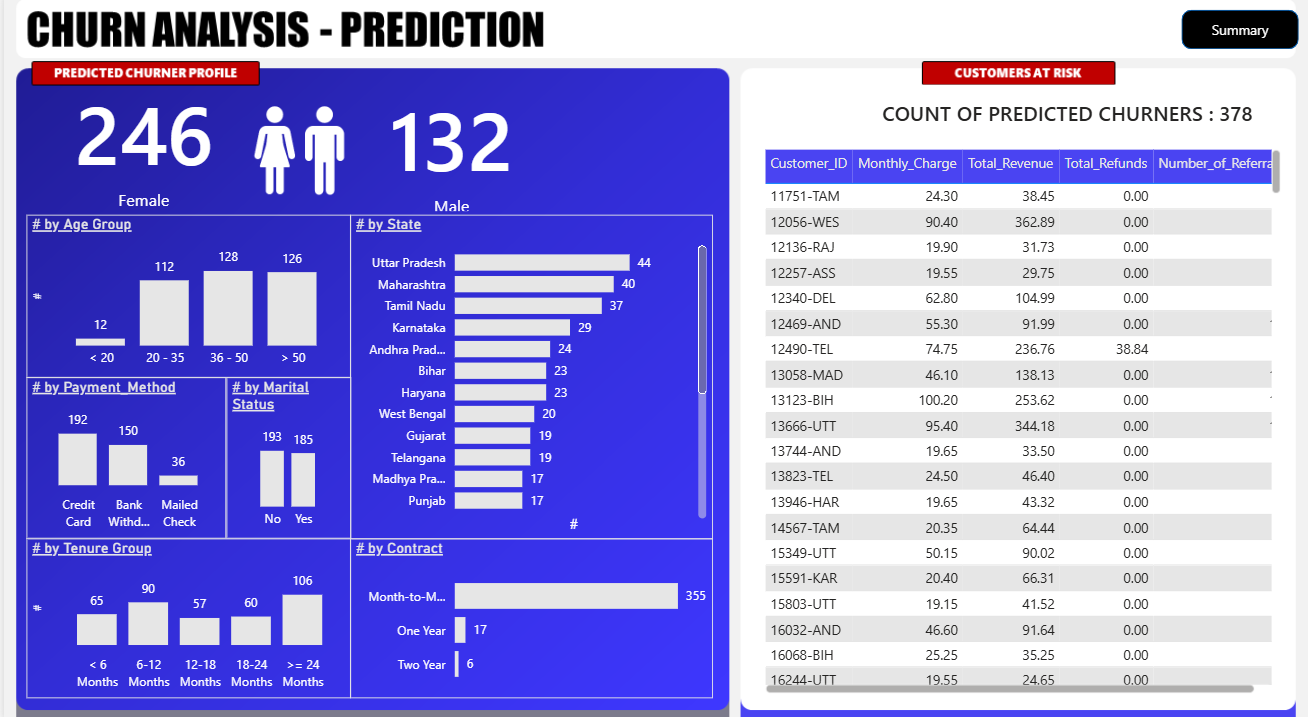

Layout of this report page (visuals, bound fields, positions):
{"tool":"powerbi","page":{"name":"Churn_Prediction","canvas":[1280,720],"ordinal":2},"visuals":[{"type":"tableEx","fields":{"Values":["predictions.Customer_ID","predictions.Monthly_Charge","predictions.Total_Revenue","predictions.Total_Refunds","predictions.Number_of_Referrals"]},"box":[741.1,151.1,517.3,543.5],"z":0},{"type":"cardVisual","fields":{"Data":["tbl_Measures.Title Predicted Churners"]},"box":[832.7,87.2,425.8,63.9],"z":1000},{"type":"cardVisual","fields":{"Data":["tbl_Measures.Count Predicted Churner"]},"box":[7.3,66.8,260.1,167.1],"z":2000},{"type":"cardVisual","fields":{"Data":["tbl_Measures.Count Predicted Churner"]},"box":[308.1,77,263,156.9],"z":3000},{"type":"clusteredColumnChart","fields":{"Category":["Mapping_AgeGrp.Age Group"],"Y":["CountNonNull(predictions.Customer_ID)"]},"box":[21.8,219.4,318.3,159.9],"z":4000},{"type":"clusteredColumnChart","fields":{"Category":["predictions.Married"],"Y":["CountNonNull(predictions.Customer_ID)"]},"box":[218,379.3,122.1,158.4],"z":5000},{"type":"clusteredColumnChart","fields":{"Y":["CountNonNull(predictions.Customer_ID)"],"Category":["mapping_TenureGrp.Tenure Group"]},"box":[21.8,537.7,318.3,156.9],"z":6000},{"type":"clusteredColumnChart","fields":{"Y":["CountNonNull(predictions.Customer_ID)"],"Category":["predictions.Payment_Method"]},"box":[21.8,379.3,196.2,158.4],"z":7000},{"type":"clusteredBarChart","fields":{"Category":["predictions.Contract"],"Y":["CountNonNull(predictions.Customer_ID)"]},"box":[340.1,537.7,356,156.9],"z":8000},{"type":"clusteredBarChart","fields":{"Y":["CountNonNull(predictions.Customer_ID)"],"Category":["predictions.State"]},"box":[340.1,219.4,356,318.3],"z":9000},{"type":"image","box":[204.9,100.3,170,110.4],"z":10000},{"type":"shape","box":[1156.2,18.8,115,38.8],"z":11000}]}

Visuals, with their boxes in screenshot pixels (x1, y1, x2, y2), scaled from the page's 1280x720 canvas onto the 1308x717 screenshot:
tableEx - predictions.Customer_ID x predictions.Monthly_Charge: BBox(757, 150, 1286, 692)
cardVisual - tbl_Measures.Title Predicted Churners: BBox(851, 87, 1286, 150)
cardVisual - tbl_Measures.Count Predicted Churner: BBox(7, 67, 273, 233)
cardVisual - tbl_Measures.Count Predicted Churner: BBox(315, 77, 584, 233)
clusteredColumnChart - Mapping_AgeGrp.Age Group x CountNonNull(predictions.Customer_ID): BBox(22, 218, 348, 378)
clusteredColumnChart - predictions.Married x CountNonNull(predictions.Customer_ID): BBox(223, 378, 348, 535)
clusteredColumnChart - CountNonNull(predictions.Customer_ID) x mapping_TenureGrp.Tenure Group: BBox(22, 535, 348, 692)
clusteredColumnChart - CountNonNull(predictions.Customer_ID) x predictions.Payment_Method: BBox(22, 378, 223, 535)
clusteredBarChart - predictions.Contract x CountNonNull(predictions.Customer_ID): BBox(348, 535, 711, 692)
clusteredBarChart - CountNonNull(predictions.Customer_ID) x predictions.State: BBox(348, 218, 711, 535)
image: BBox(209, 100, 383, 210)
shape: BBox(1181, 19, 1299, 57)
